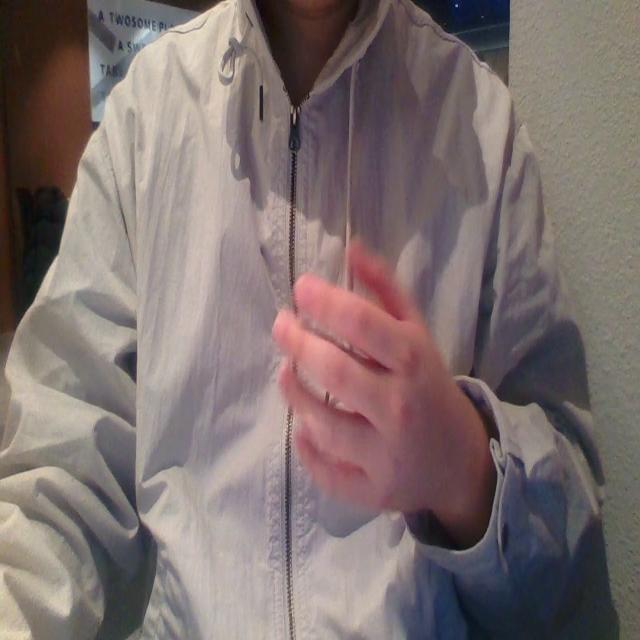hand: (269, 240, 480, 586)
